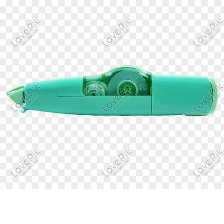correction_fluid: (3, 64, 218, 118)
